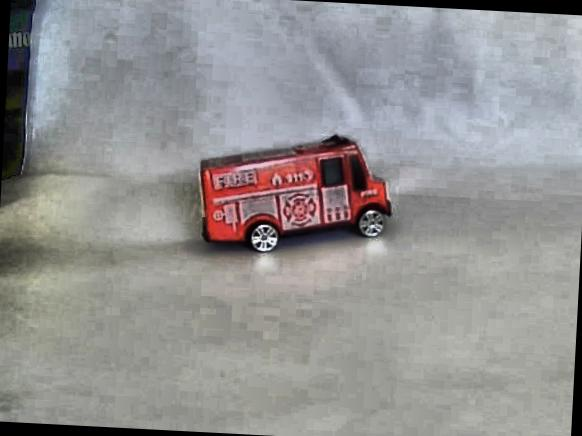fire_truck: (191, 125, 398, 260)
